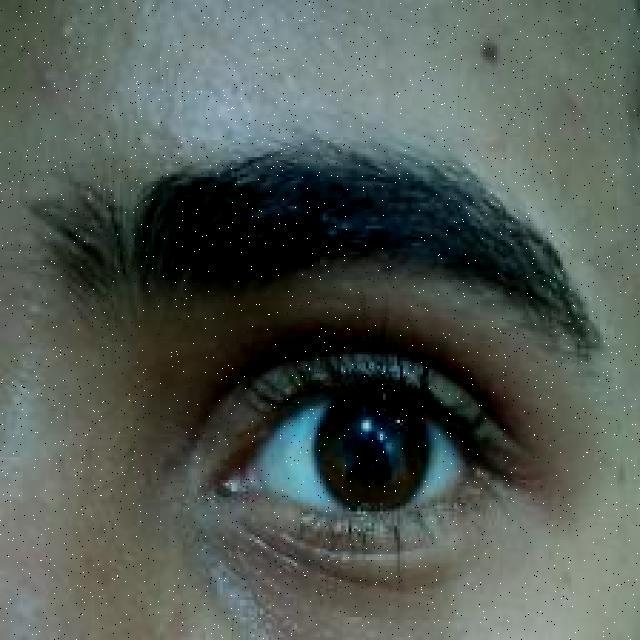Normal: (105, 273, 638, 610)
